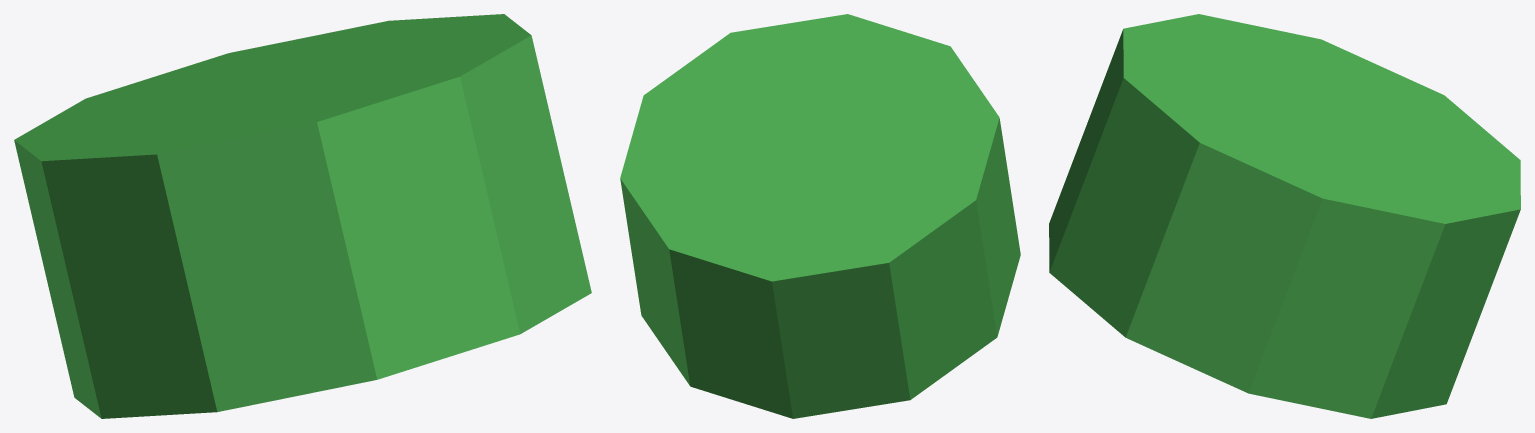
File: group411329078_lev3.glb
3 views of the same model, side by side, from view 1: azimuth 30°, elevation 25°; view 2: azimuth 150°, elevation 25°; view 3: azimuth 270°, elevation 25° (orthographic). The views are drawn at different scales.
Visible parts, largest first — view 1: group411329078_lev3; view 2: group411329078_lev3; view 3: group411329078_lev3.
Part boxes in pixels (left/top/right/bottom): group411329078_lev3: left=14, top=14, right=591, bottom=418; group411329078_lev3: left=620, top=14, right=1020, bottom=418; group411329078_lev3: left=1049, top=14, right=1520, bottom=418.
Size of the model in its own units: 0.5663 by 0.4447 by 0.5849.
